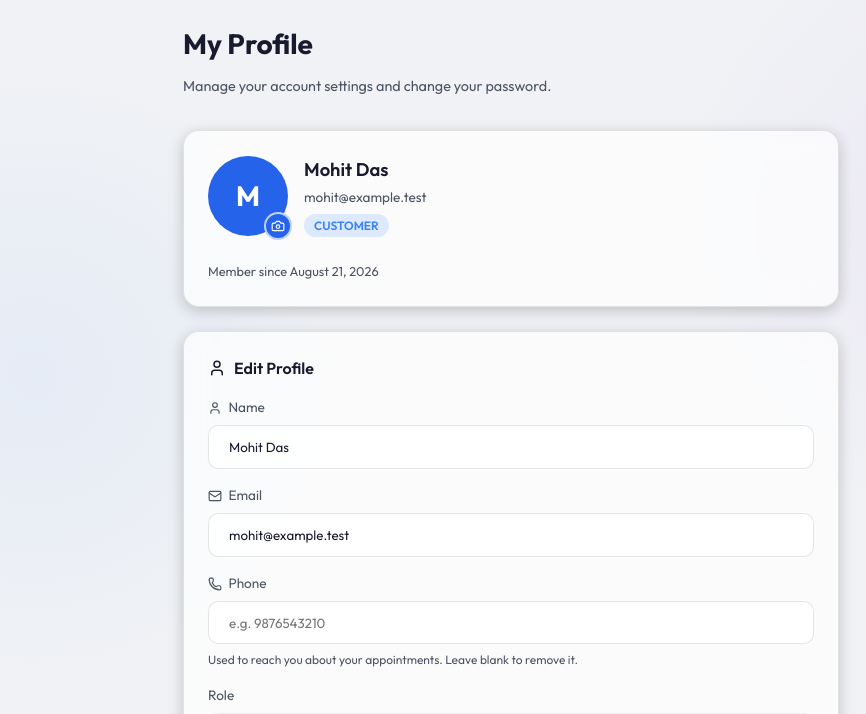
Test: <Profile /> — self-service phone number › adopts the canonical number the server stored
This screenshot has width=866, height=714.
Expected: the field showing "Mohit Das" below "Name" is shown, top-left (208, 425), bottom-right (814, 469)
Type "9876543210" into the field with test id "profile-phone-input" at (511, 623), box top-left (208, 601), bottom-right (814, 644)
(page scrolled)
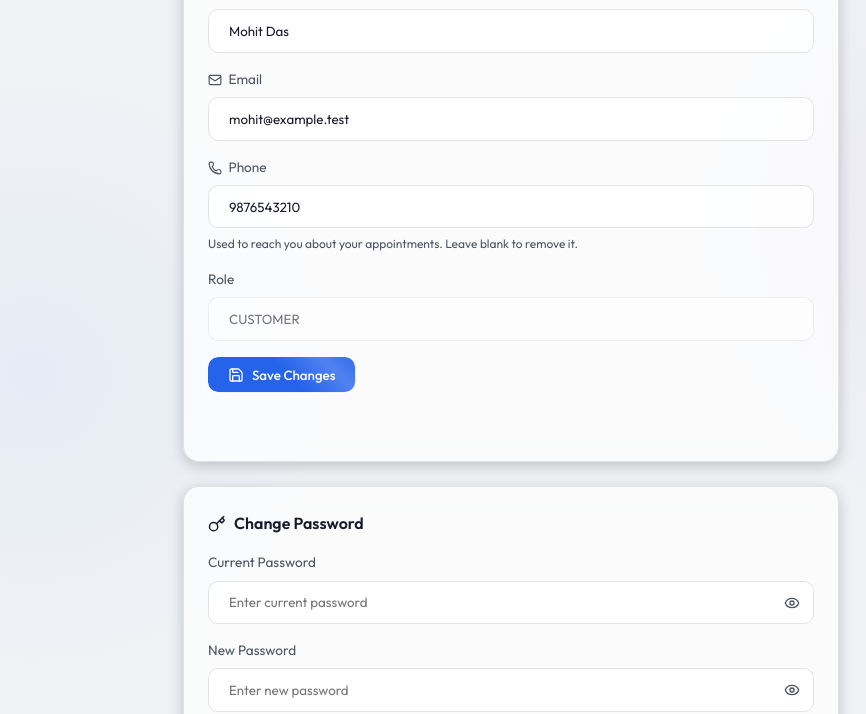
Click the button "Save Changes" at (282, 375), box top-left (208, 357), bottom-right (356, 392)
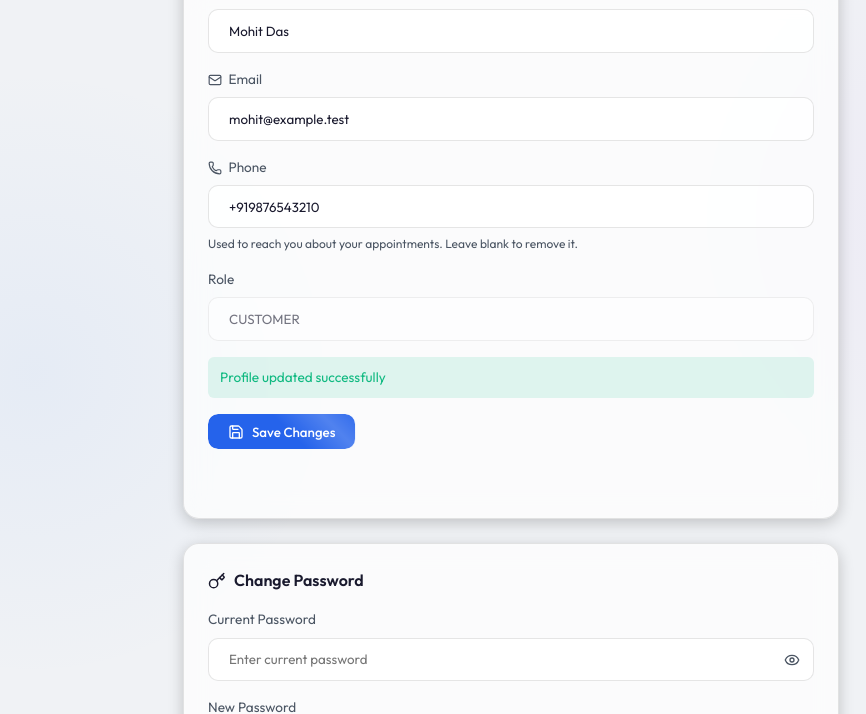
Expected: the field with test id "profile-phone-input" holds "+919876543210", top-left (208, 185), bottom-right (814, 228)
# Saving again is now correctly a no-op — the field matches the baseline.
Click the button "Save Changes" at (282, 432), box top-left (208, 414), bottom-right (356, 449)
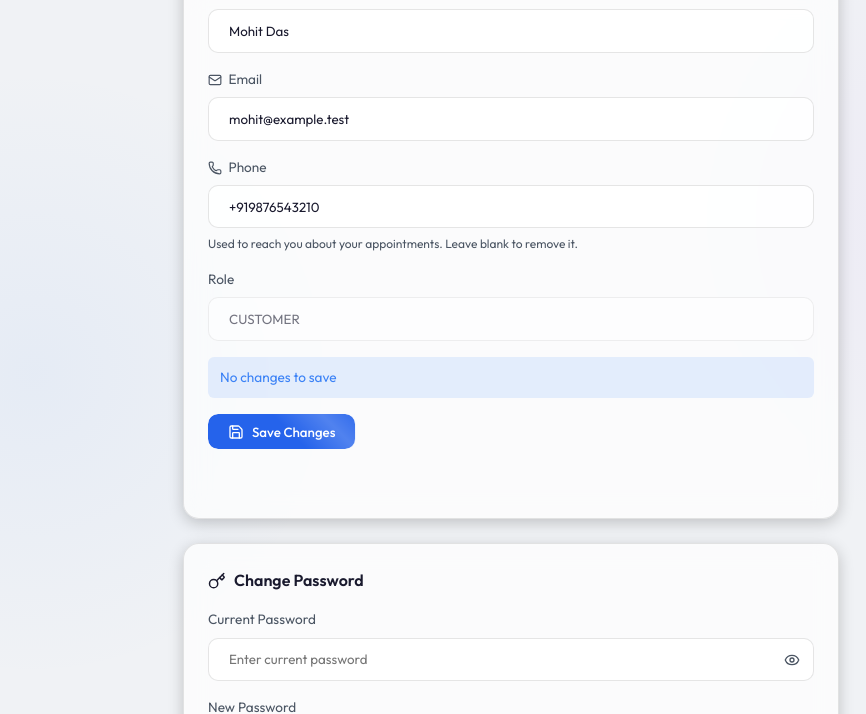
Expected: the text "No changes to save" is shown, top-left (208, 357), bottom-right (814, 398)
